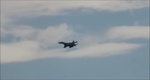maybay_muctieu: (57, 38, 80, 52)
